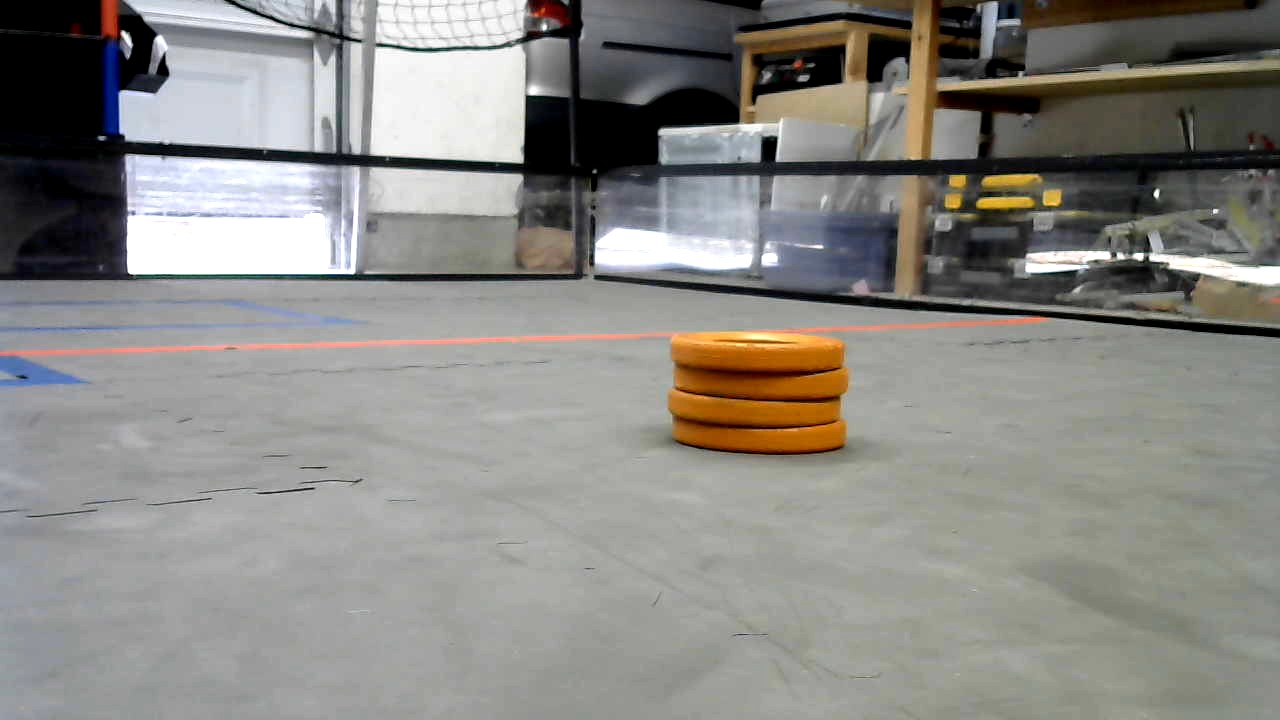FourStack: (669, 334, 846, 455)
